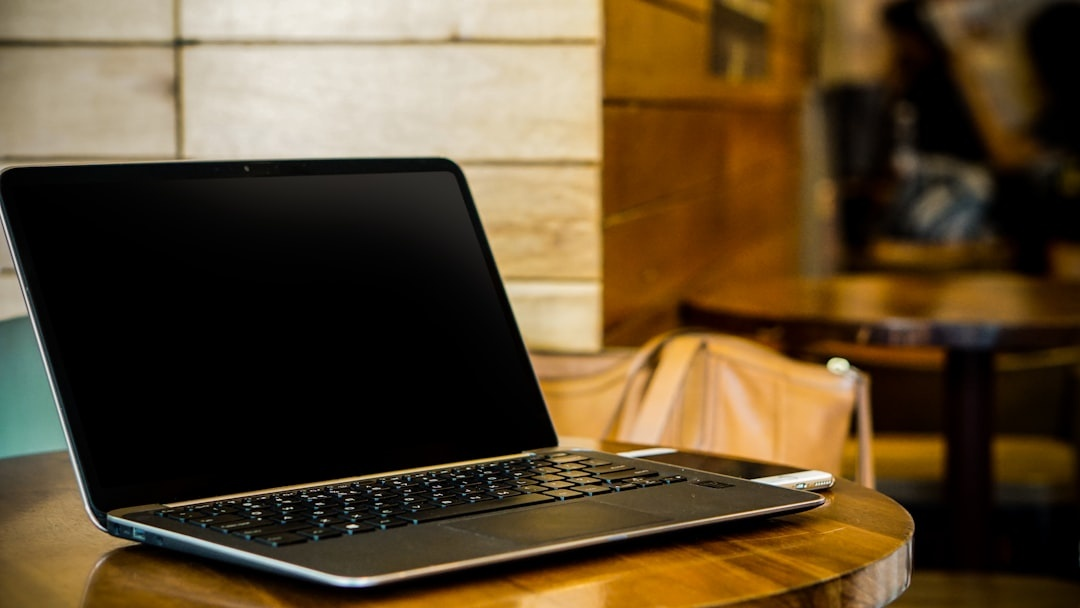laptop: (1, 132, 872, 602)
